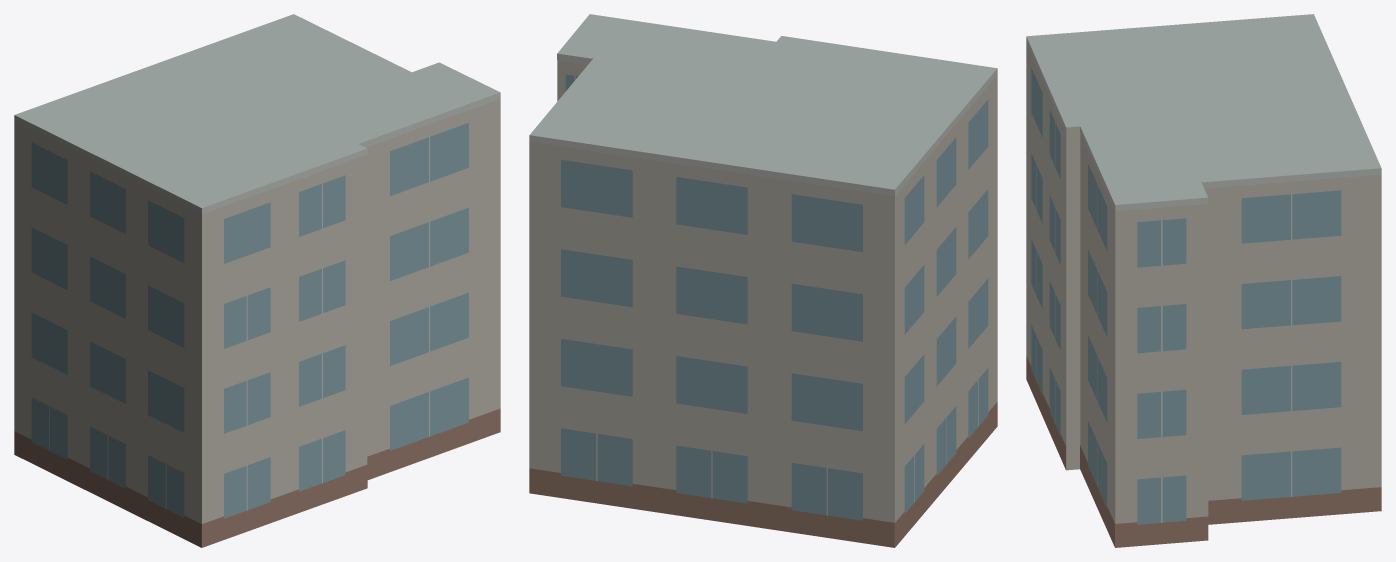
The model's file is survey-upis-32888129.glb.
3 views of the same model, side by side, from view 1: azimuth 30°, elevation 25°; view 2: azimuth 150°, elevation 25°; view 3: azimuth 270°, elevation 25° (orthographic). The views are drawn at different scales.
Visible parts, largest first — view 1: survey-upis-32888129.tmp; view 2: survey-upis-32888129.tmp; view 3: survey-upis-32888129.tmp.
Boxes of the visible parts, x1,y1,x2,y2 form: survey-upis-32888129.tmp: (14, 14, 500, 547); survey-upis-32888129.tmp: (529, 14, 997, 547); survey-upis-32888129.tmp: (1026, 14, 1381, 547).
Bounding box in the file's own units: 15.84 × 13.25 × 12.45.
